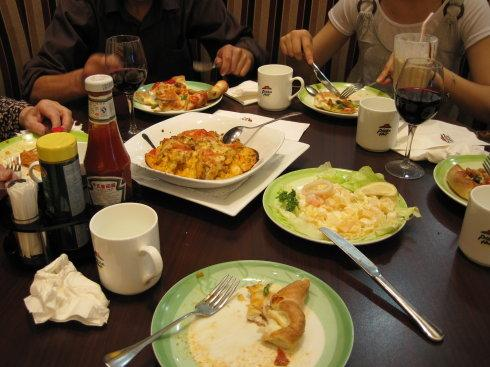food: (167, 257, 330, 358), (259, 157, 419, 246), (131, 110, 284, 193), (153, 263, 248, 352), (131, 69, 224, 115), (435, 150, 489, 200), (303, 79, 358, 119)
